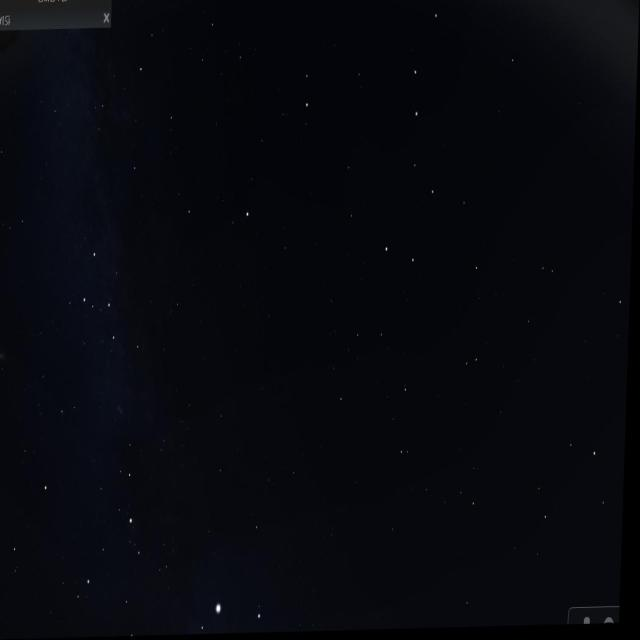ursa_major: (382, 0, 457, 292)
